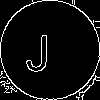J: (25, 25, 51, 72)
